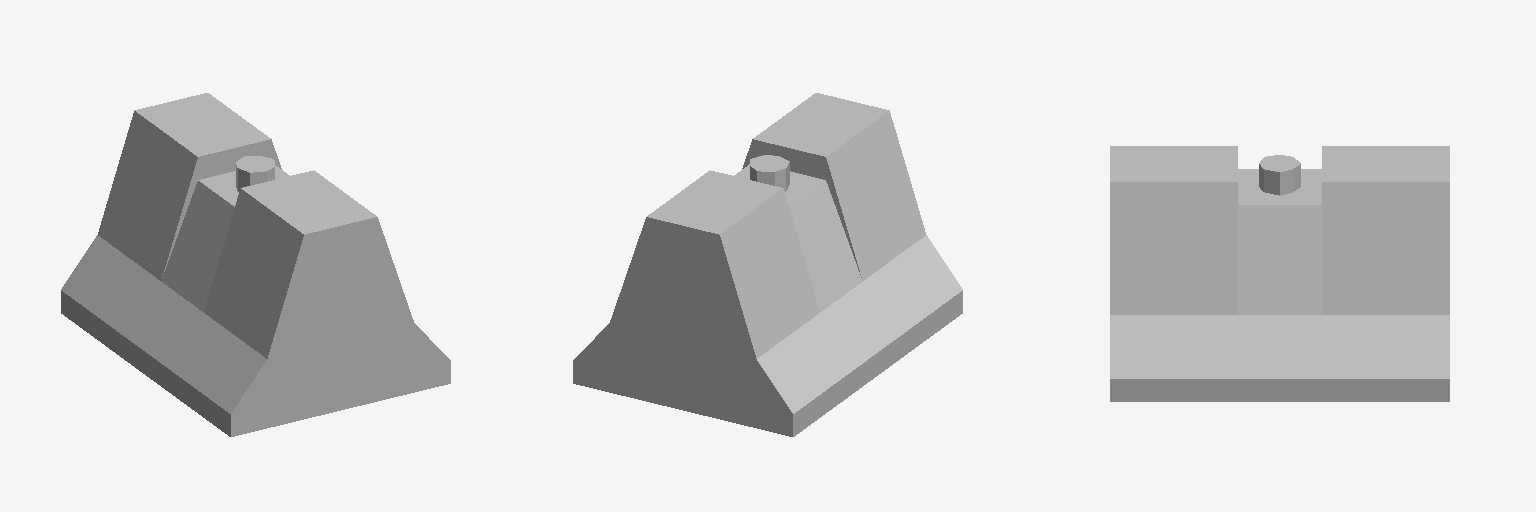
Rendered from Barrier1.obj.
3 renders of one model, left to right at view 1: azimuth 30°, elevation 25°; view 2: azimuth 150°, elevation 25°; view 3: azimuth 270°, elevation 25°, orthographic.
Parts seen in each view (by area): view 1: HUB; view 2: HUB; view 3: HUB.
Part boxes in pixels (left/top/right/bottom): HUB: left=61, top=93, right=450, bottom=436; HUB: left=573, top=93, right=962, bottom=436; HUB: left=1110, top=146, right=1449, bottom=401.
Size of the model in its own units: 96 by 76.8 by 128.